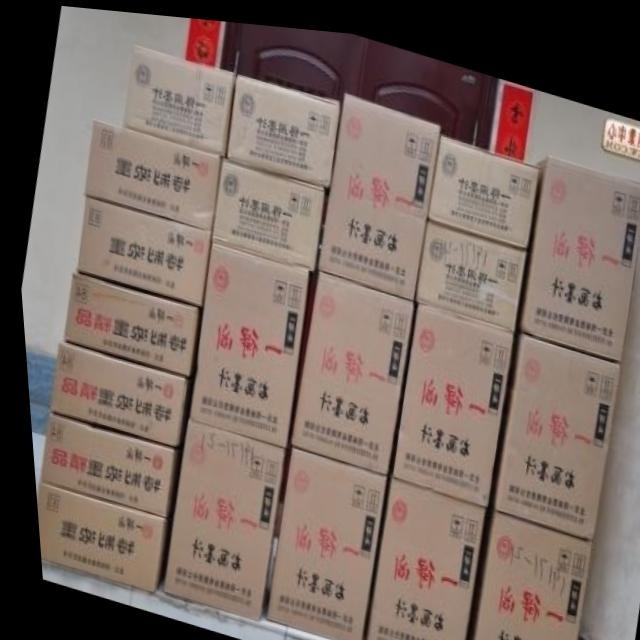box: (486, 322, 617, 531), (516, 143, 640, 351), (314, 86, 439, 292), (385, 295, 510, 499), (284, 265, 410, 467), (153, 415, 278, 618), (182, 238, 304, 442), (257, 440, 380, 640), (356, 472, 478, 640), (464, 500, 586, 640), (80, 118, 218, 229), (74, 195, 207, 303), (29, 480, 158, 589), (42, 342, 180, 442), (32, 413, 168, 514), (59, 272, 194, 372), (224, 69, 340, 182), (120, 43, 234, 153), (209, 157, 322, 267), (410, 211, 523, 320), (425, 128, 537, 237)
